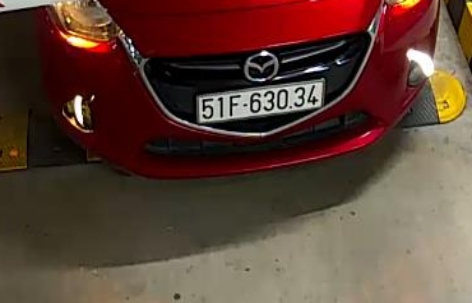plate: (195, 81, 329, 125)
